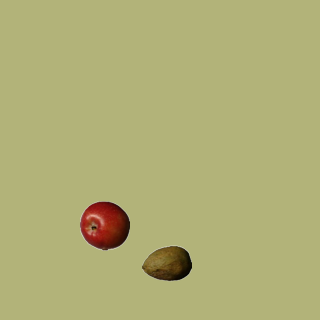Apple Braeburn: (79, 200, 129, 250)
Papaya: (141, 238, 191, 288)
